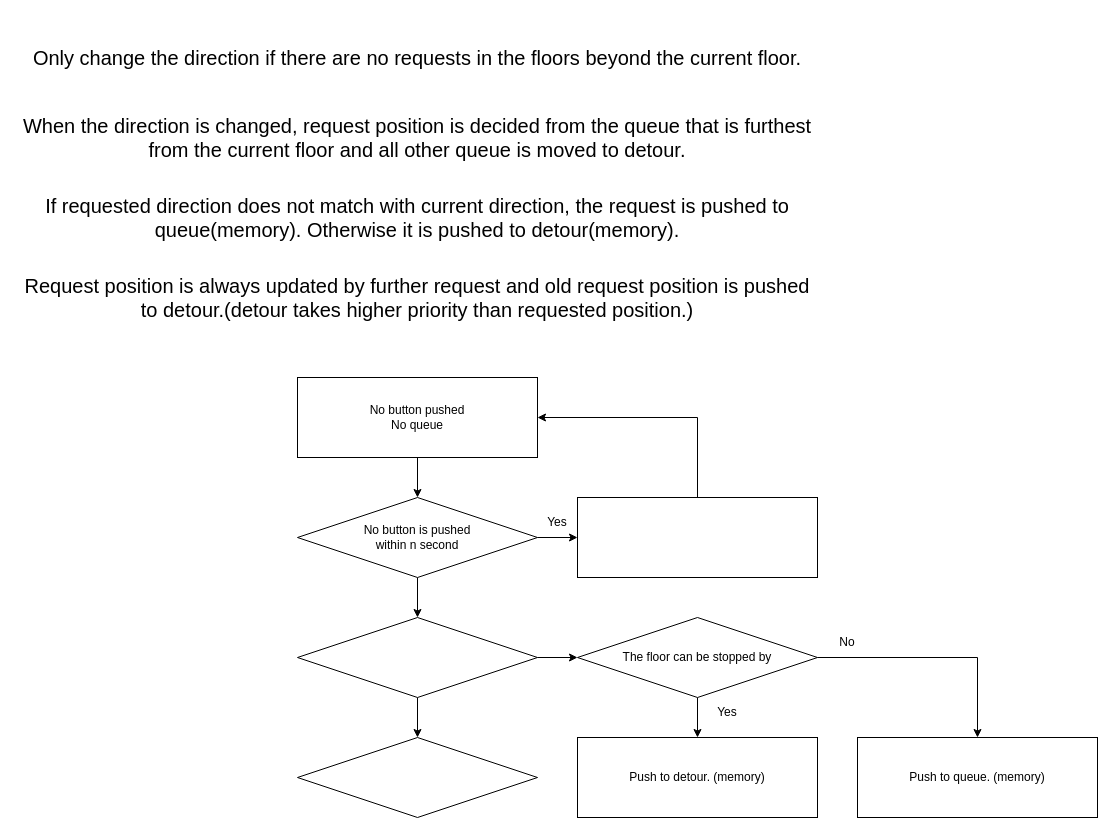
This 1115x835 diagram has some shape labels left out. Here are the shapes that lost their labels. From the top down, the centre of each, then its label:
pixel 697 537: Move Elevator to the first floor
pixel 417 657: Request position is updated
